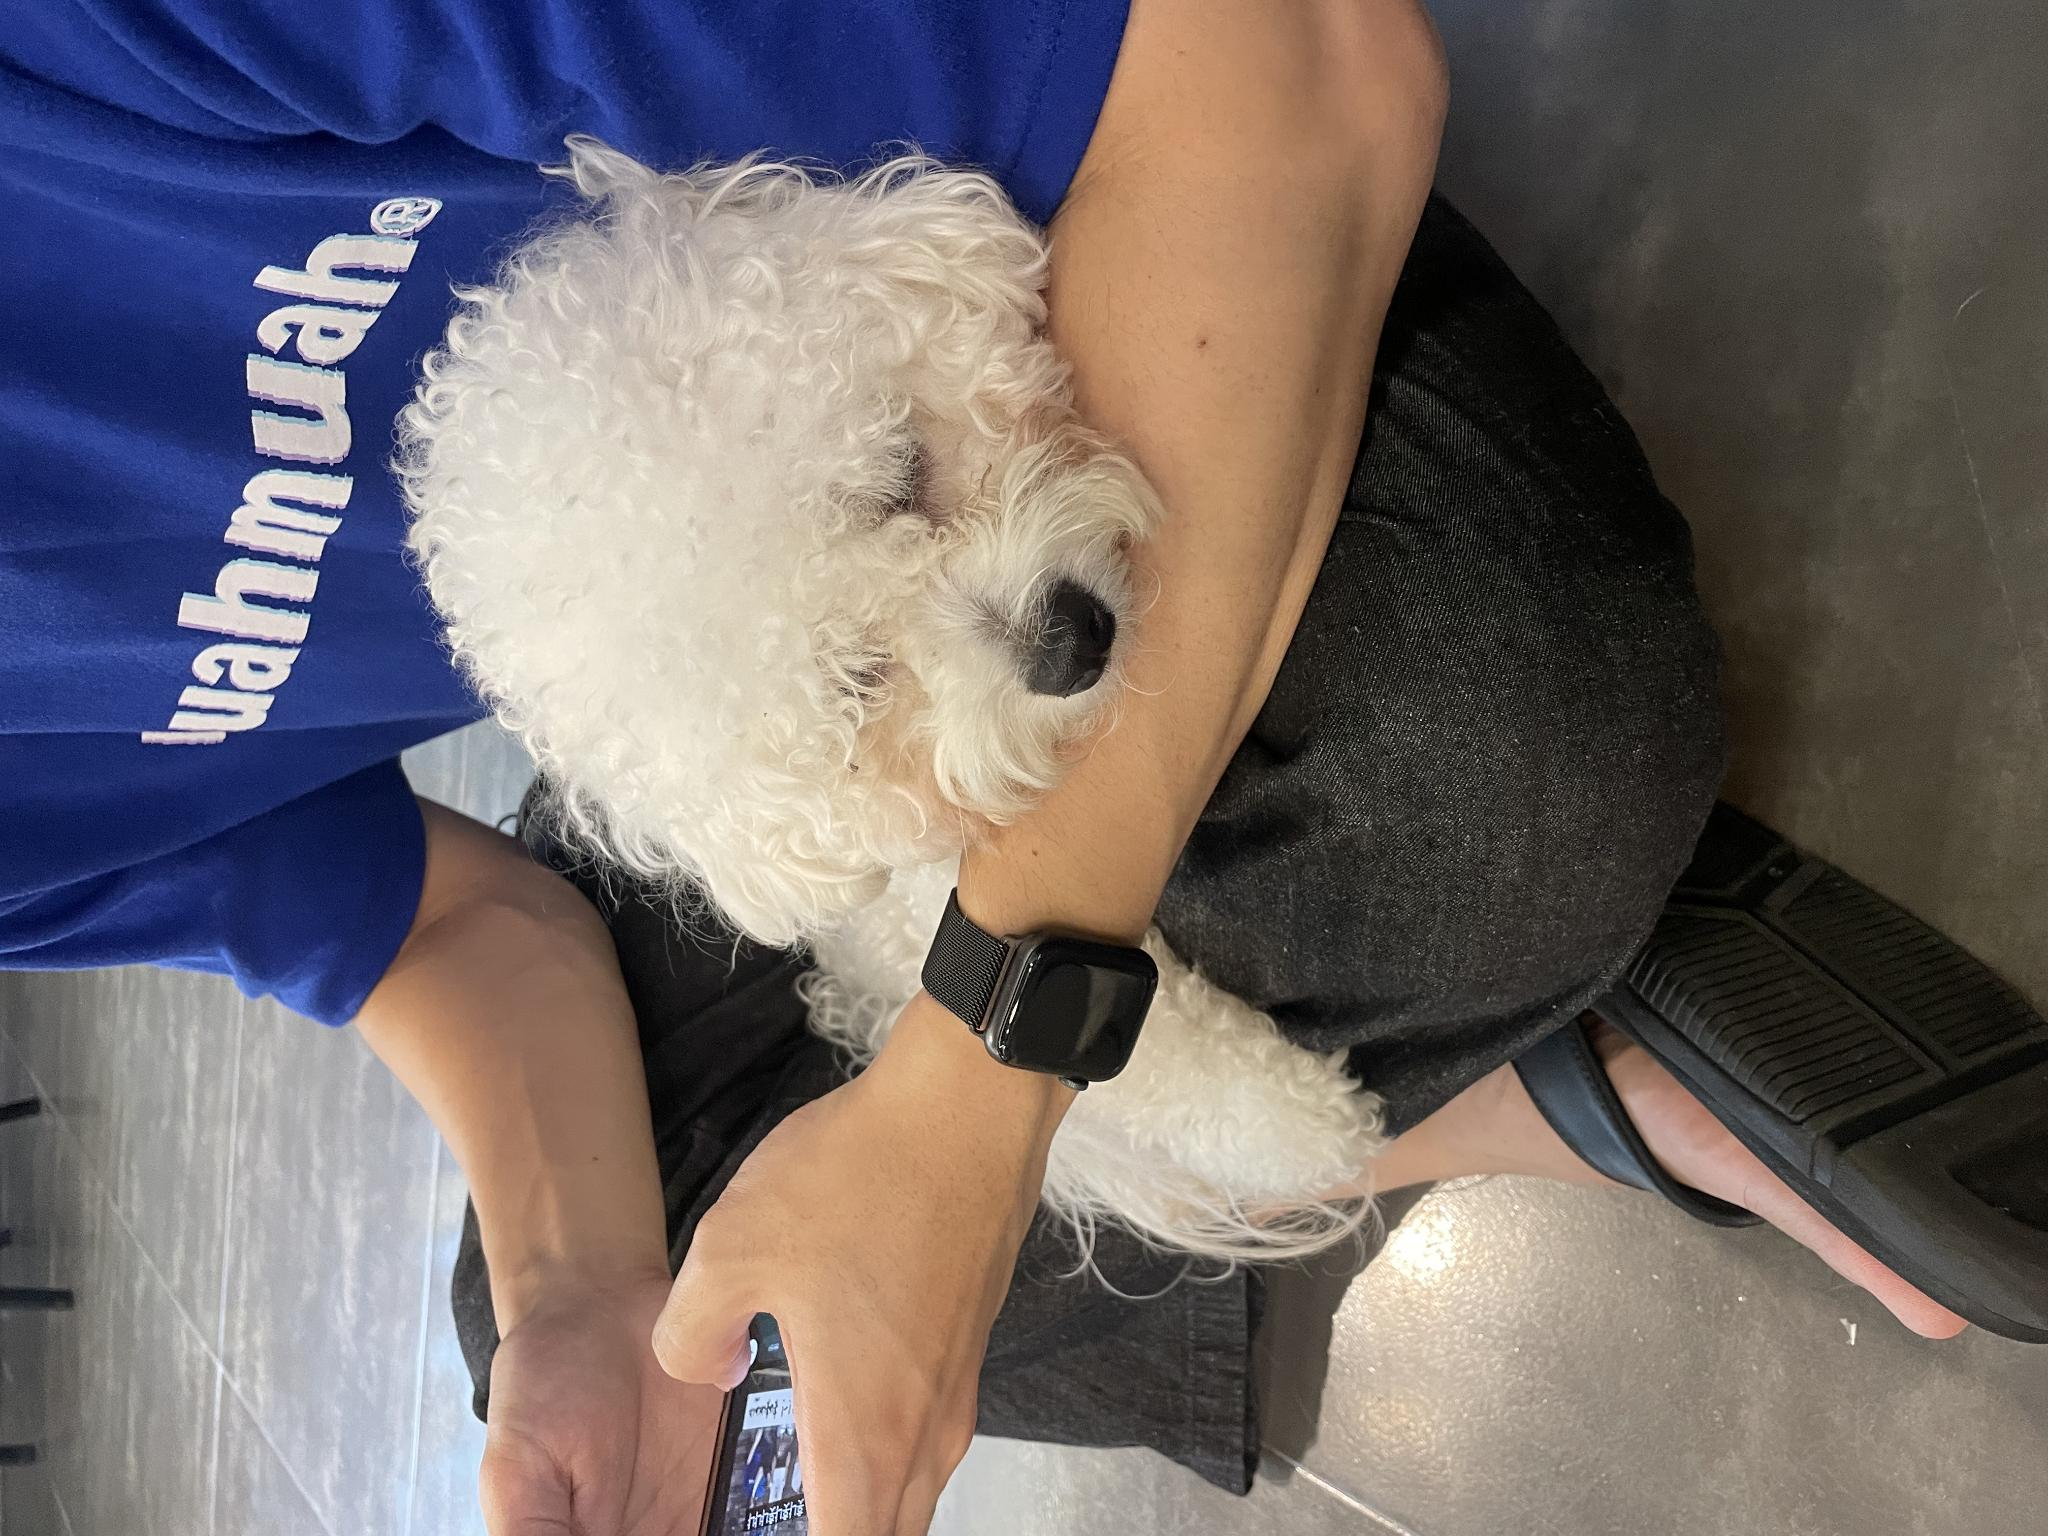dog: (232, 386, 1403, 1396)
